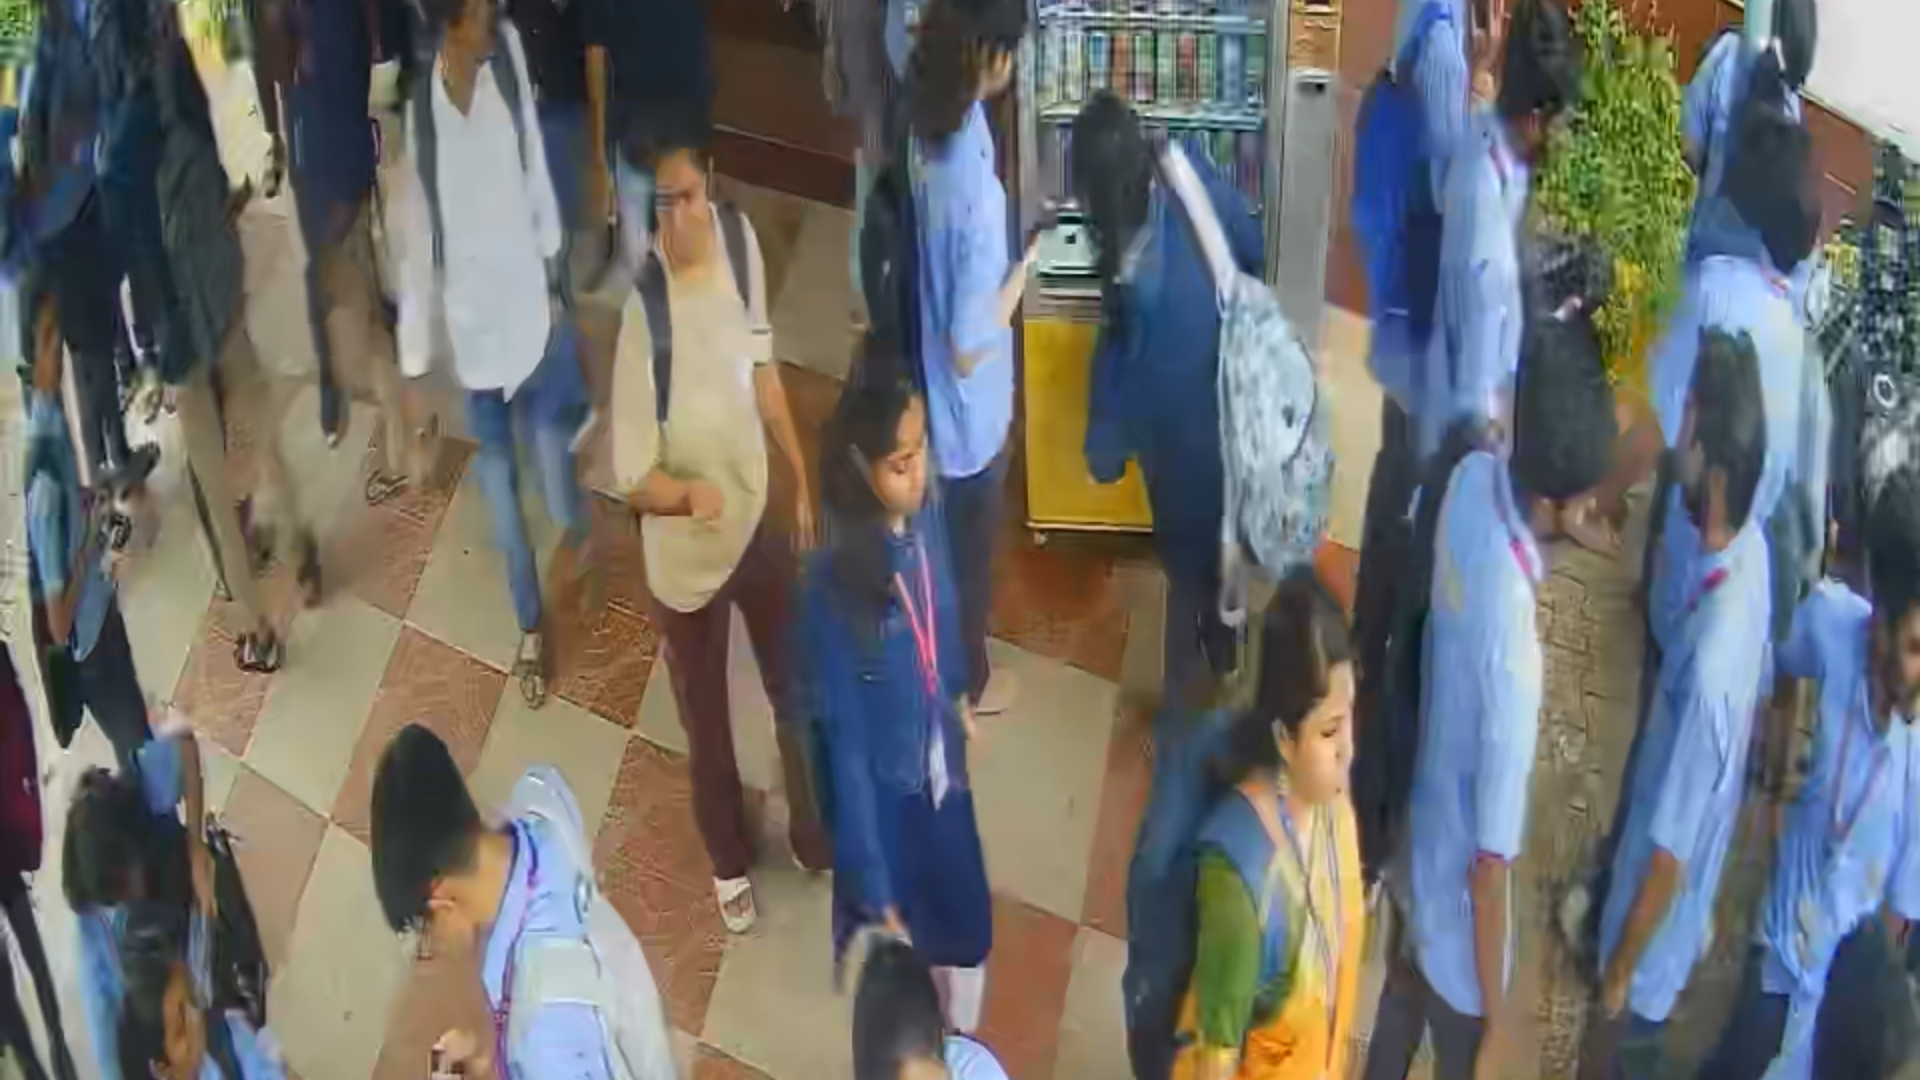intruder: (621, 140, 832, 884), (409, 1, 616, 683)
not intruder: (799, 372, 1021, 1027), (1208, 597, 1367, 1080)
